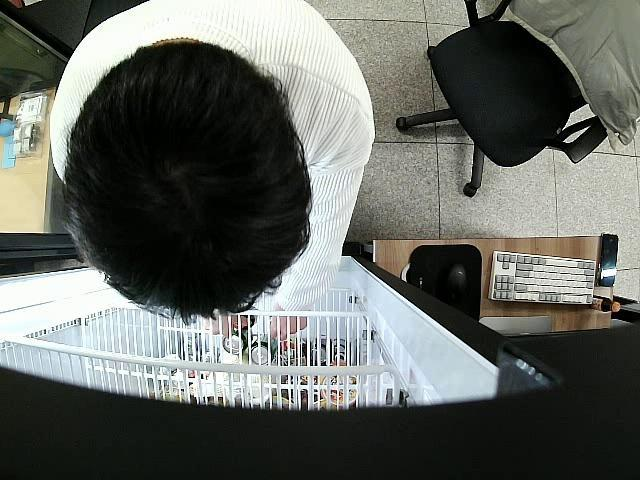17_vita500: (234, 305, 258, 330)
